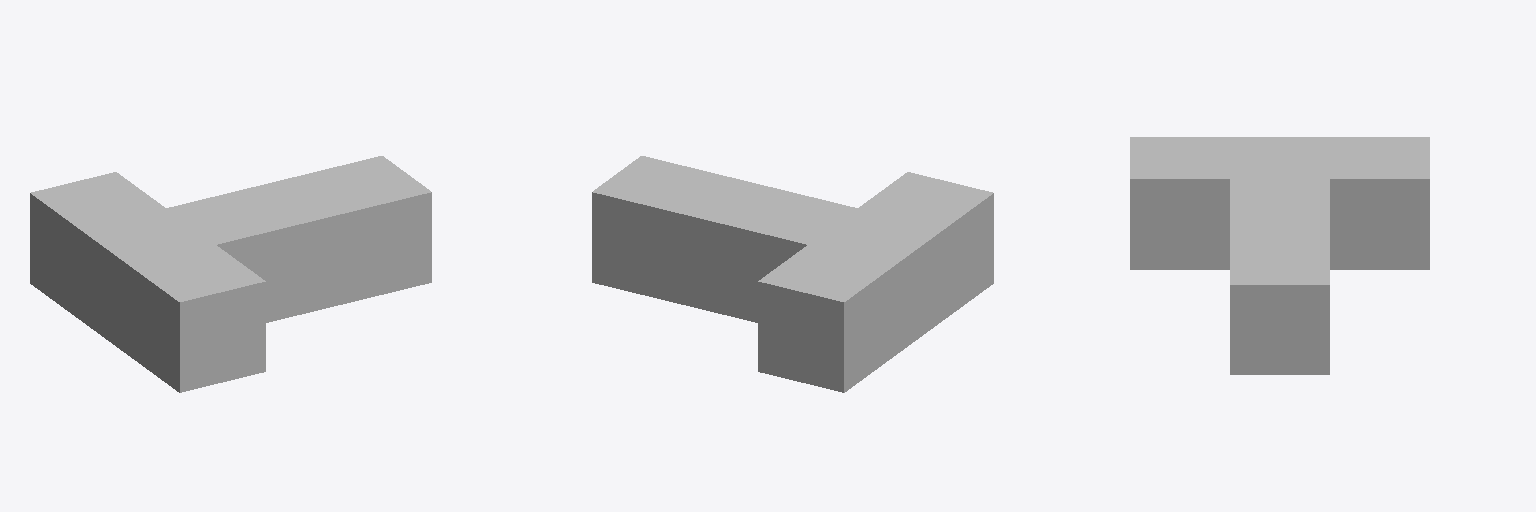
The model's file is obj-hammer.obj.
3 views of the same model, side by side, from view 1: azimuth 30°, elevation 25°; view 2: azimuth 150°, elevation 25°; view 3: azimuth 270°, elevation 25° (orthographic).
Parts seen in each view (by area): view 1: hammer; view 2: hammer; view 3: hammer.
Boxes of the visible parts, x1=… form: hammer: x1=30, y1=156, x2=431, y2=392; hammer: x1=592, y1=156, x2=993, y2=392; hammer: x1=1130, y1=137, x2=1429, y2=374.
Bounding box in the file's own units: 0.7 × 0.2 × 0.6.